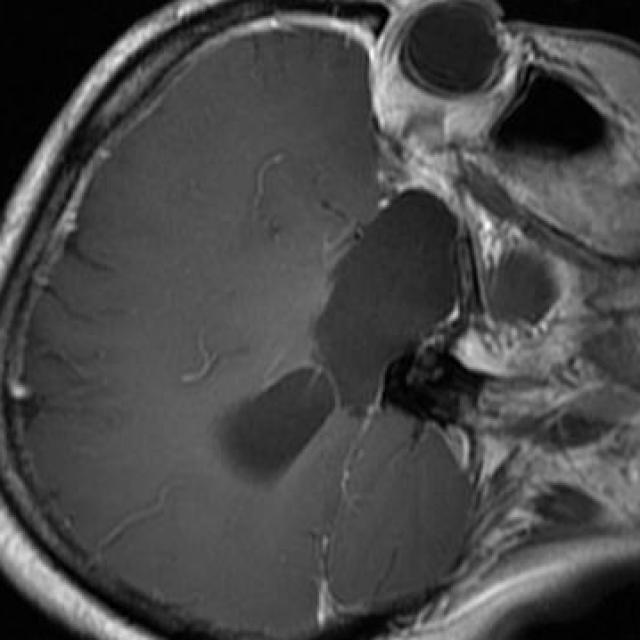glioma: (219, 189, 464, 488)
